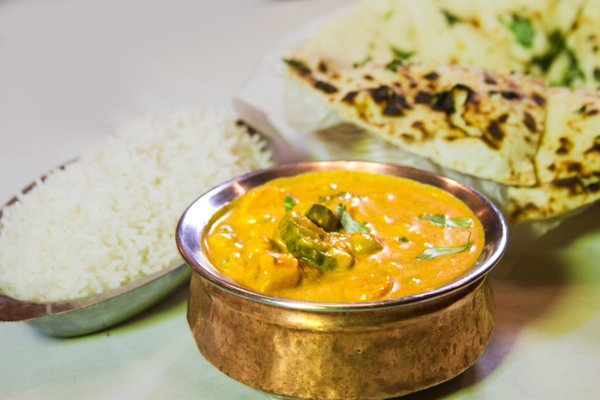sushi: (175, 159, 509, 396)
